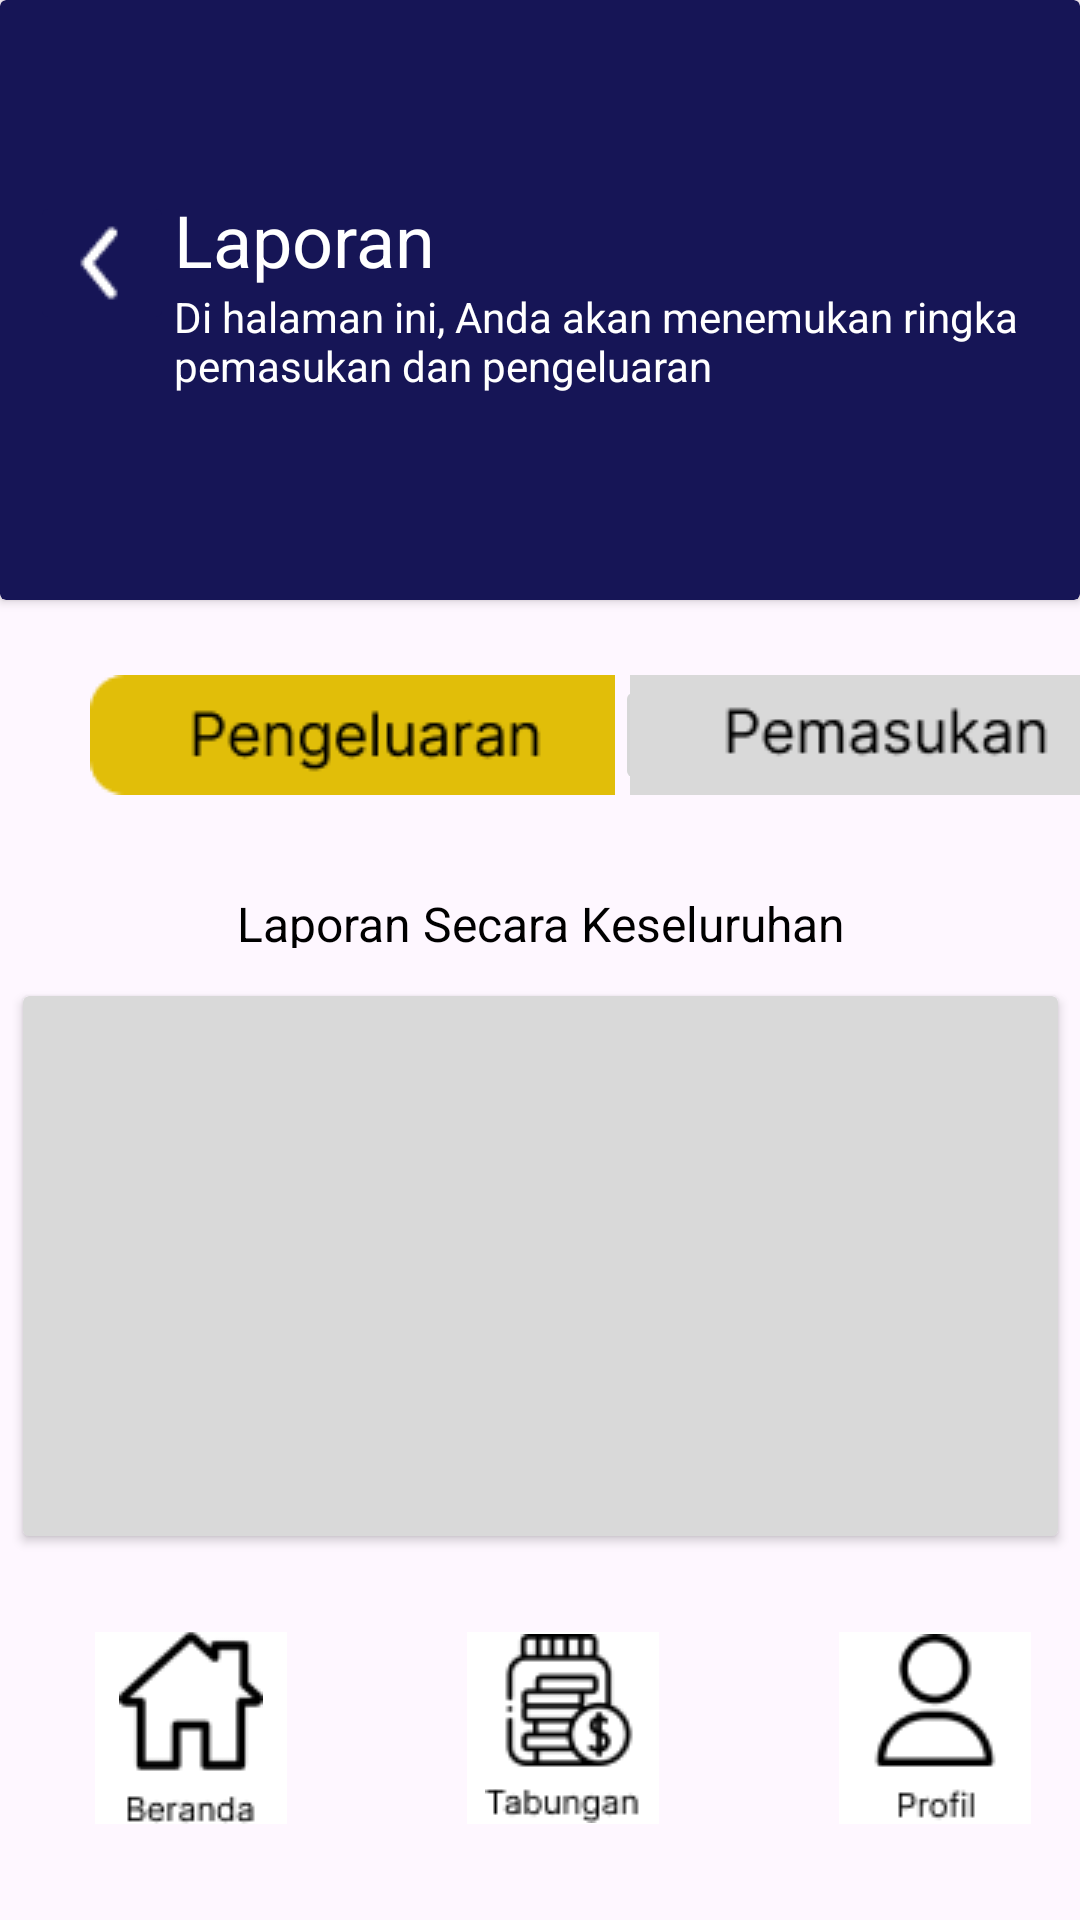

Icons on this 1080×1920 Android screen, each with its box as (x1, y1, x2, y2):
back: (80, 226, 118, 300)
